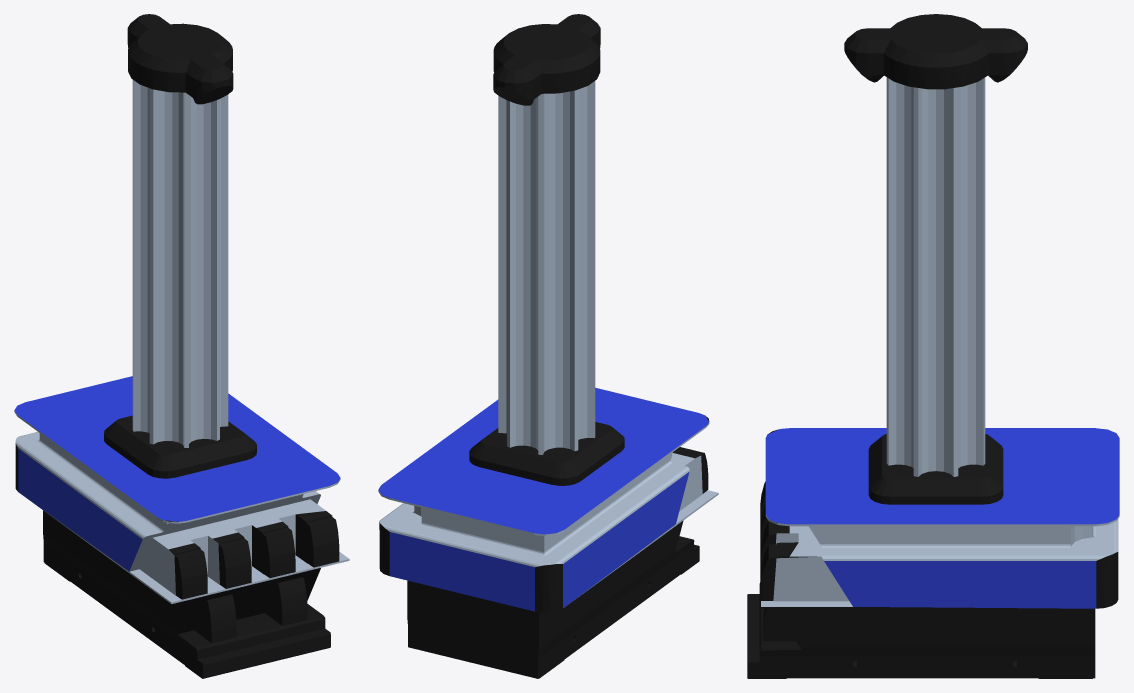
The model's file is Sirius_UVM_V3_Simplified.dae.
The picture shows the model from 3 angles, left to right: view 1: azimuth 30°, elevation 25°; view 2: azimuth 150°, elevation 25°; view 3: azimuth 270°, elevation 25°; orthographic projection. The views are drawn at different scales.
Parts seen in each view (by area): view 1: UV Simplified temp; view 2: UV Simplified temp; view 3: UV Simplified temp.
Part boxes in pixels (left/top/right/bottom): UV Simplified temp: left=14, top=14, right=349, bottom=678; UV Simplified temp: left=378, top=14, right=718, bottom=678; UV Simplified temp: left=747, top=14, right=1119, bottom=678.
Bounding box in the file's own units: 0.5143 × 0.8409 × 1.52.
